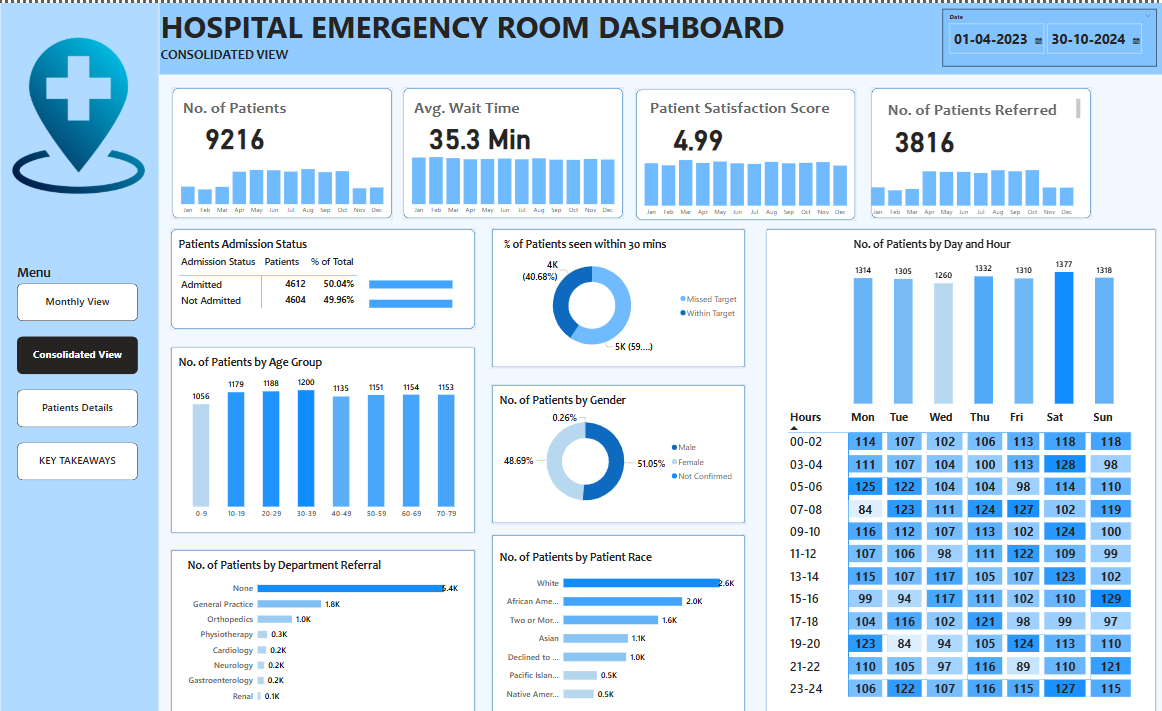

Layout of this report page (visuals, bound fields, positions):
{"tool":"powerbi","page":{"name":"Consolidated View","canvas":[2300,1400],"ordinal":1},"visuals":[{"type":"textbox","box":[318,0,1253.1,138.5],"z":0,"group":"g1"},{"type":"shape","box":[1507.5,442.5,767.5,957.5],"z":0},{"type":"shape","box":[10.2,0,310,1399],"z":1000},{"type":"textbox","box":[318,78.7,280.2,59.8],"z":1000,"group":"g1"},{"type":"shape","box":[319.2,0,1981,140],"z":2000},{"type":"shape","box":[344.7,163.8,434,259.6],"z":3000},{"type":"group","id":"g1","title":"Group 1","box":[318,0,1253.1,138.5],"z":4000},{"type":"card","fields":{"Values":["Hospital ER_Data.No. of Patients"]},"box":[391.5,227.7,153.2,66],"z":5000},{"type":"slicer","fields":{"Values":["Date Table.Date"]},"box":[1855,12.5,420,112.5],"z":6000},{"type":"textbox","box":[361.7,178.7,236.2,68.1],"z":7000},{"type":"clusteredColumnChart","fields":{"Category":["Date Table.Month"],"Y":["Hospital ER_Data.No. of Patients"]},"box":[344.7,278.7,434,144.7],"z":8000},{"type":"shape","box":[797.2,163.9,434,259.6],"z":9000},{"type":"card","fields":{"Values":["Hospital ER_Data.Avg.wait time"]},"box":[814.9,227.7,268.1,66],"z":10000},{"type":"textbox","box":[814.3,178.8,236.2,68.1],"z":11000},{"type":"columnChart","fields":{"Category":["Date Table.Month"],"Y":["Avg(Hospital ER_Data.Patient Waittime)"]},"box":[797.2,278.8,434,144.7],"z":12000},{"type":"shape","box":[1252.6,166.7,434,259.6],"z":13000},{"type":"card","fields":{"Values":["Hospital ER_Data.Avg. Satisfaction Score"]},"box":[1299.4,230.6,153.2,66],"z":14000},{"type":"textbox","box":[1270.2,180.9,383,51.1],"z":15000},{"type":"columnChart","fields":{"Category":["Date Table.Month"],"Y":["Hospital ER_Data.Avg. Satisfaction Score"]},"box":[1252.6,281.6,434,144.7],"z":16000},{"type":"shape","box":[1714.9,163.8,434,259.6],"z":17000},{"type":"card","fields":{"Values":["Hospital ER_Data.No.of Patients Referred"]},"box":[1744.8,232,153.2,66],"z":18000},{"type":"textbox","box":[1744.7,183,387.2,48.9],"z":19000},{"type":"columnChart","fields":{"Category":["Date Table.Month"],"Y":["Hospital ER_Data.No.of Patients Referred"]},"box":[1697.9,283,434,144.7],"z":20000},{"type":"shape","box":[342.5,442.5,600,200],"z":21000},{"type":"pivotTable","title":"Patients Admission Status","fields":{"Rows":["Hospital ER_Data.Admission Status"],"Values":["Hospital ER_Data.No. of Patients1","Hospital ER_Data.No. of Patients"]},"box":[352.5,460,385,165],"z":22000},{"type":"barChart","fields":{"Category":["Hospital ER_Data.Admission Status"],"Y":["Hospital ER_Data.No. of Patients"]},"box":[727.5,512.5,222.5,112.5],"z":23000},{"type":"shape","box":[342.5,672.5,600,367.5],"z":24000},{"type":"areaChart","fields":{"Category":["Hospital ER_Data.Age Group"],"Y":["Hospital ER_Data.No. of Patients"]},"box":[352.5,692.5,580,330],"z":25000},{"type":"shape","box":[342.5,1070,600,330],"z":26000},{"type":"clusteredBarChart","fields":{"Category":["Hospital ER_Data.Department Referral"],"Y":["Hospital ER_Data.No. of Patients"]},"box":[370,1087.5,540,295],"z":27000},{"type":"shape","box":[970,442.5,500,275],"z":28000},{"type":"pieChart","title":"% of Patients seen within 30 mins","fields":{"Category":["Hospital ER_Data.Waittime status"],"Y":["Hospital ER_Data.No. of Patients"]},"box":[990,460,475,240],"z":29000},{"type":"shape","box":[970,747.5,500,275],"z":30000},{"type":"donutChart","title":"No. of Patients by Gender","fields":{"Category":["Hospital ER_Data.Patient Gender"],"Y":["Hospital ER_Data.No. of Patients"]},"box":[982.5,765,475,240],"z":31000},{"type":"shape","box":[970,1040,500,360],"z":32000},{"type":"treemap","fields":{"Group":["Hospital ER_Data.Patient Race"],"Values":["Hospital ER_Data.No. of Patients"]},"box":[982.1,1041.5,489.6,339.6],"z":33000},{"type":"pivotTable","fields":{"Rows":["Hospital ER_Data.Waittime Interval"],"Columns":["Date Table.Day Name"],"Values":["Hospital ER_Data.No. of Patients"]},"box":[1547.5,792.5,700,590],"z":34000},{"type":"columnChart","title":"No. of Patients by Day and Hour","fields":{"Category":["Date Table.Day Name"],"Y":["Hospital ER_Data.No. of Patients"]},"box":[1675,460,522.5,332.5],"z":35000},{"type":"image","box":[2.5,0,317.5,442.5],"z":36000},{"type":"pageNavigator","title":"Menu","box":[40,512.5,237.5,427.5],"z":37000}]}

Visuals, with their boxes in screenshot pixels (x1, y1, x2, y2), scaled from the page's 2300x1400 canvas onto the 1162x711 screenshot:
textbox: select_region(161, 0, 794, 70)
shape: select_region(762, 225, 1149, 710)
shape: select_region(5, 0, 162, 710)
textbox: select_region(161, 40, 302, 70)
shape: select_region(161, 0, 1161, 71)
shape: select_region(174, 83, 393, 215)
"Group 1" group: select_region(161, 0, 794, 70)
card - Hospital ER_Data.No. of Patients: select_region(198, 116, 275, 149)
slicer - Date Table.Date: select_region(937, 6, 1149, 63)
textbox: select_region(183, 91, 302, 125)
clusteredColumnChart - Date Table.Month x Hospital ER_Data.No. of Patients: select_region(174, 142, 393, 215)
shape: select_region(403, 83, 622, 215)
card - Hospital ER_Data.Avg.wait time: select_region(412, 116, 547, 149)
textbox: select_region(411, 91, 531, 125)
columnChart - Date Table.Month x Avg(Hospital ER_Data.Patient Waittime): select_region(403, 142, 622, 215)
shape: select_region(633, 85, 852, 216)
card - Hospital ER_Data.Avg. Satisfaction Score: select_region(656, 117, 734, 151)
textbox: select_region(642, 92, 835, 118)
columnChart - Date Table.Month x Hospital ER_Data.Avg. Satisfaction Score: select_region(633, 143, 852, 216)
shape: select_region(866, 83, 1086, 215)
card - Hospital ER_Data.No.of Patients Referred: select_region(882, 118, 959, 151)
textbox: select_region(881, 93, 1077, 118)
columnChart - Date Table.Month x Hospital ER_Data.No.of Patients Referred: select_region(858, 144, 1077, 217)
shape: select_region(173, 225, 476, 326)
"Patients Admission Status" pivotTable: select_region(178, 234, 373, 317)
barChart - Hospital ER_Data.Admission Status x Hospital ER_Data.No. of Patients: select_region(368, 260, 480, 317)
shape: select_region(173, 342, 476, 528)
areaChart - Hospital ER_Data.Age Group x Hospital ER_Data.No. of Patients: select_region(178, 352, 471, 519)
shape: select_region(173, 543, 476, 710)
clusteredBarChart - Hospital ER_Data.Department Referral x Hospital ER_Data.No. of Patients: select_region(187, 552, 460, 702)
shape: select_region(490, 225, 743, 364)
"% of Patients seen within 30 mins" pieChart: select_region(500, 234, 740, 356)
shape: select_region(490, 380, 743, 519)
"No. of Patients by Gender" donutChart: select_region(496, 389, 736, 510)
shape: select_region(490, 528, 743, 710)
treemap - Hospital ER_Data.Patient Race x Hospital ER_Data.No. of Patients: select_region(496, 529, 744, 701)
pivotTable - Hospital ER_Data.Waittime Interval x Date Table.Day Name: select_region(782, 402, 1135, 702)
"No. of Patients by Day and Hour" columnChart: select_region(846, 234, 1110, 402)
image: select_region(1, 0, 162, 225)
"Menu" pageNavigator: select_region(20, 260, 140, 477)
